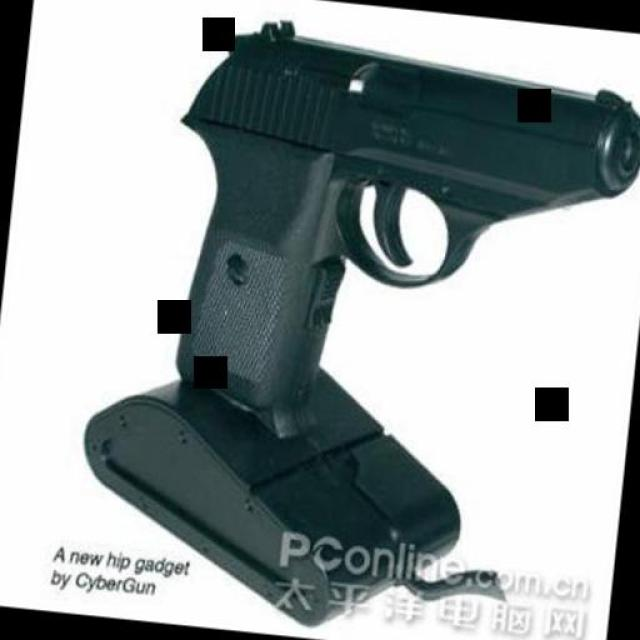gun: (147, 7, 640, 461)
